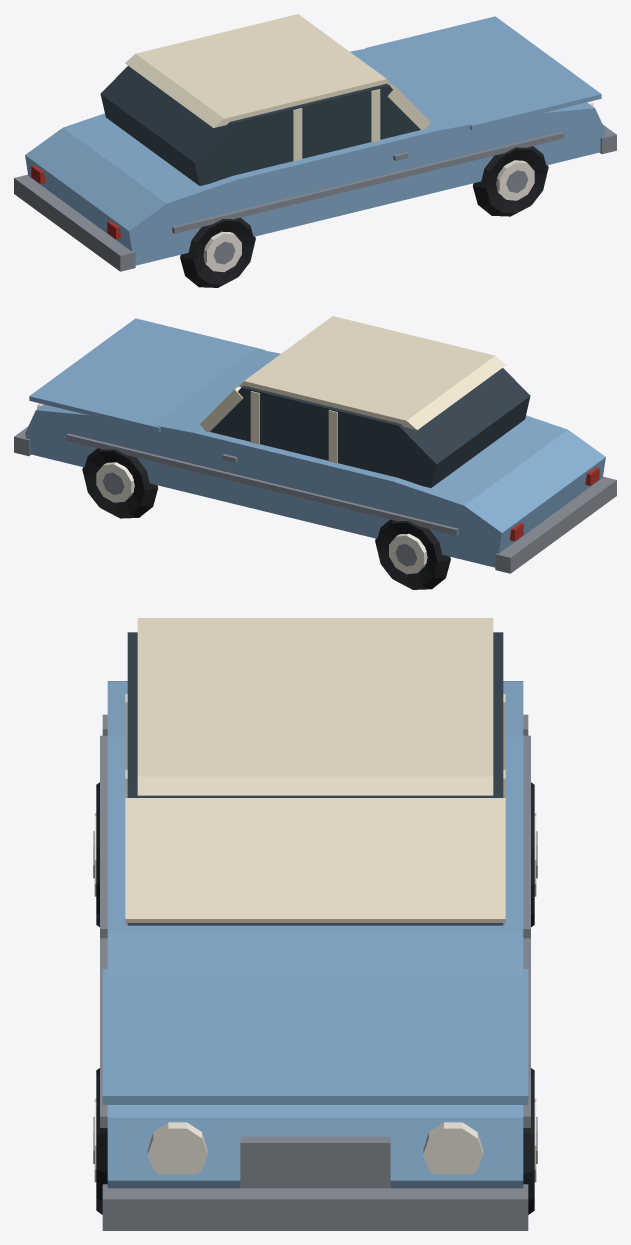
The model's file is gammal_bil.glb.
The picture shows the model from 3 angles, top to bottom: view 1: azimuth 30°, elevation 25°; view 2: azimuth 150°, elevation 25°; view 3: azimuth 270°, elevation 25°; orthographic projection. The views are drawn at different scales.
Visible parts, largest first — view 1: gammal_bil; view 2: gammal_bil; view 3: gammal_bil.
Boxes of the visible parts, x1,y1,x2,y2 form: gammal_bil: (14, 14, 616, 287); gammal_bil: (14, 316, 616, 589); gammal_bil: (93, 618, 537, 1230).
Bounding box in the file's own units: 4.58 × 1.44 × 1.77.
